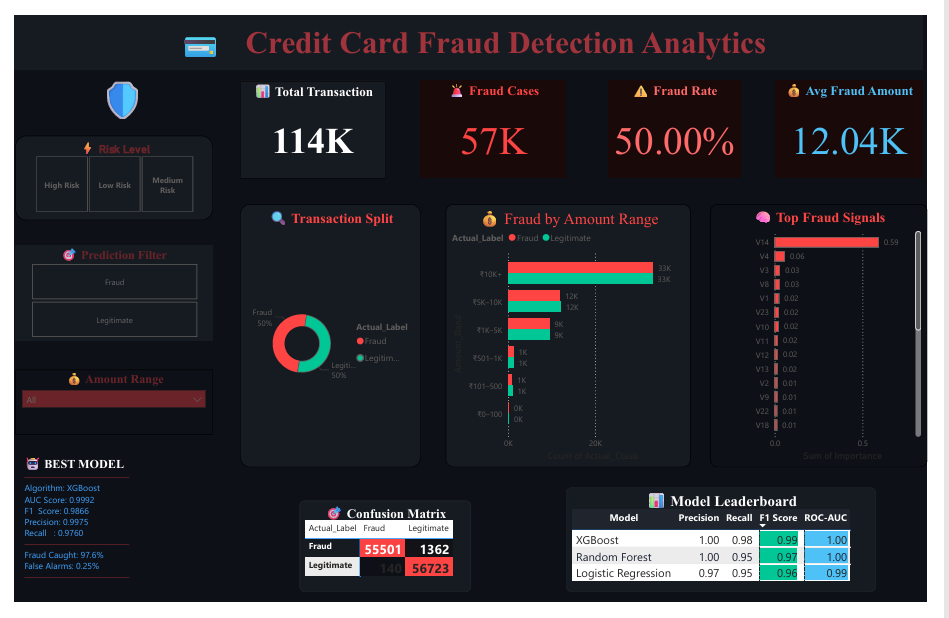

Layout of this report page (visuals, bound fields, positions):
{"tool":"powerbi","page":{"name":"Fraud Analytics","canvas":[1400,900],"ordinal":0},"visuals":[{"type":"textbox","box":[0,0,1392.9,82.9],"z":0},{"type":"card","title":"🚨 Fraud Cases","fields":{"Values":["dashboard_export.Fraud Transaction"]},"box":[622.9,100,222.9,150],"z":1},{"type":"card","title":"⚠️ Fraud Rate","fields":{"Values":["dashboard_export.Fraud Rate"]},"box":[911.4,100,202.9,150],"z":2},{"type":"card","title":"💰 Avg Fraud Amount","fields":{"Values":["dashboard_export.Avg Fraud Amount"]},"box":[1167.1,100,225.7,150],"z":3},{"type":"card","title":"📊 Total Transaction","fields":{"Values":["dashboard_export.Total Transaction"]},"box":[345.7,100,222.9,150],"z":4},{"type":"shape","box":[10,85.7,304.3,798.6],"z":5},{"type":"slicer","title":"⚡ Risk Level","fields":{"Values":["dashboard_export.Risk_Category"]},"box":[1.4,184.3,302.9,130],"z":6},{"type":"slicer","title":"🎯 Prediction Filter","fields":{"Values":["dashboard_export.Predicted_Label"]},"box":[1.4,352.9,302.9,147.1],"z":7},{"type":"slicer","title":"💰 Amount Range","fields":{"Values":["dashboard_export.Amount_Band"]},"box":[1.4,542.9,302.9,100],"z":8},{"type":"textbox","box":[10,668.6,282.9,231.4],"z":9},{"type":"donutChart","title":"🔍 Transaction Split","fields":{"Category":["dashboard_export.Actual_Label"],"Y":["CountNonNull(dashboard_export.Actual_Class)"]},"box":[345.7,288.6,277.1,404.3],"z":10},{"type":"clusteredBarChart","title":"💰 Fraud by Amount Range","fields":{"Category":["dashboard_export.Amount_Band"],"Y":["CountNonNull(dashboard_export.Actual_Class)"],"Series":["dashboard_export.Actual_Label"]},"box":[661.4,288.6,375.7,404.3],"z":11},{"type":"clusteredBarChart","title":"🧠 Top Fraud Signals","fields":{"Category":["feature_importance.Feature"],"Y":["Sum(feature_importance.Importance)"]},"box":[1067.1,288.6,332.9,404.3],"z":12},{"type":"pivotTable","title":"🎯 Confusion Matrix","fields":{"Rows":["dashboard_export.Actual_Label"],"Columns":["dashboard_export.Predicted_Label"],"Values":["CountNonNull(dashboard_export.Actual_Class)"]},"box":[437.1,744.3,262.9,140],"z":13},{"type":"tableEx","title":"📊 Model Leaderboard","fields":{"Values":["model_results.Model","Sum(model_results.Precision)","Sum(model_results.Recall)","Sum(model_results.F1 Score)","Sum(model_results.ROC-AUC)"]},"box":[845.7,724.3,475.7,160],"z":14},{"type":"textbox","box":[112.9,82.9,107.1,92.9],"z":16}]}

Visuals, with their boxes in screenshot pixels (x1, y1, x2, y2), scaled from the page's 1400x900 canvas onto the 949x618 screenshot:
textbox: box=[0, 0, 944, 57]
"🚨 Fraud Cases" card: box=[422, 69, 573, 172]
"⚠️ Fraud Rate" card: box=[618, 69, 755, 172]
"💰 Avg Fraud Amount" card: box=[791, 69, 944, 172]
"📊 Total Transaction" card: box=[234, 69, 385, 172]
shape: box=[7, 59, 213, 607]
"⚡ Risk Level" slicer: box=[1, 127, 206, 216]
"🎯 Prediction Filter" slicer: box=[1, 242, 206, 343]
"💰 Amount Range" slicer: box=[1, 373, 206, 441]
textbox: box=[7, 459, 199, 617]
"🔍 Transaction Split" donutChart: box=[234, 198, 422, 476]
"💰 Fraud by Amount Range" clusteredBarChart: box=[448, 198, 703, 476]
"🧠 Top Fraud Signals" clusteredBarChart: box=[723, 198, 948, 476]
"🎯 Confusion Matrix" pivotTable: box=[296, 511, 474, 607]
"📊 Model Leaderboard" tableEx: box=[573, 497, 896, 607]
textbox: box=[77, 57, 149, 121]
